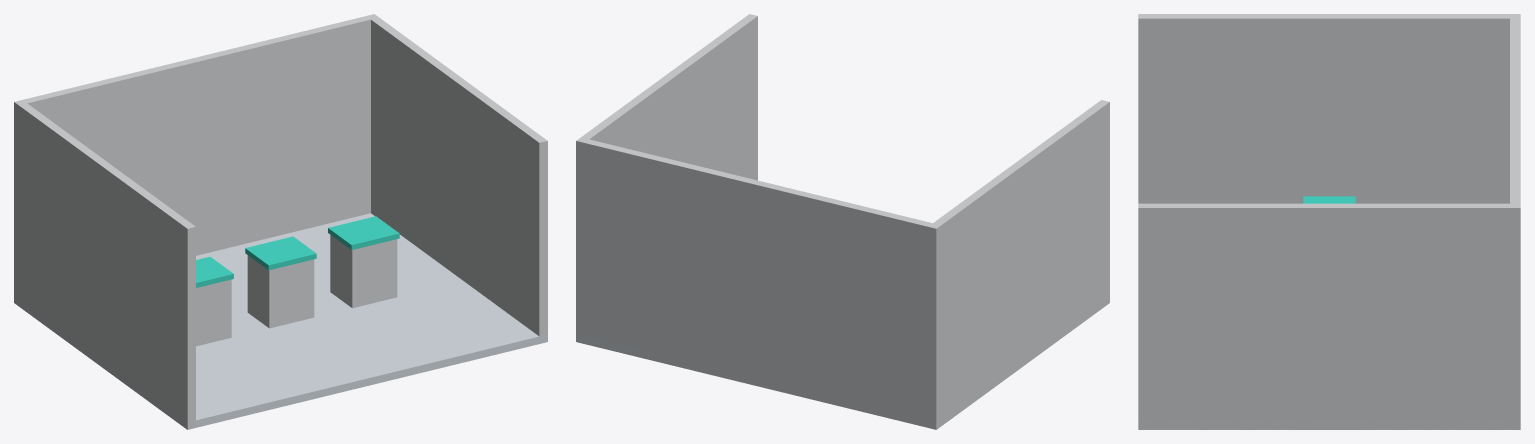
The picture shows the model from 3 angles, left to right: view 1: azimuth 30°, elevation 25°; view 2: azimuth 150°, elevation 25°; view 3: azimuth 270°, elevation 25°; orthographic projection. The views are drawn at different scales.
Visible parts, largest first — view 1: Exhibition Booth Concept; view 2: Exhibition Booth Concept; view 3: Exhibition Booth Concept.
Boxes of the visible parts, <box> form: Exhibition Booth Concept: <box>14,14,547,429</box>; Exhibition Booth Concept: <box>576,14,1109,429</box>; Exhibition Booth Concept: <box>1138,14,1520,429</box>.
Bounding box in the file's own units: 6 × 3.2 × 5.
